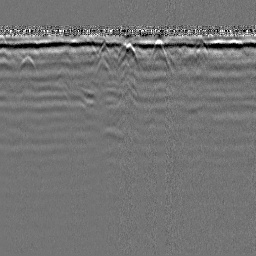cavity: (116, 40, 139, 69)
